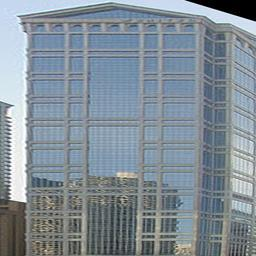building: (18, 0, 206, 256)
